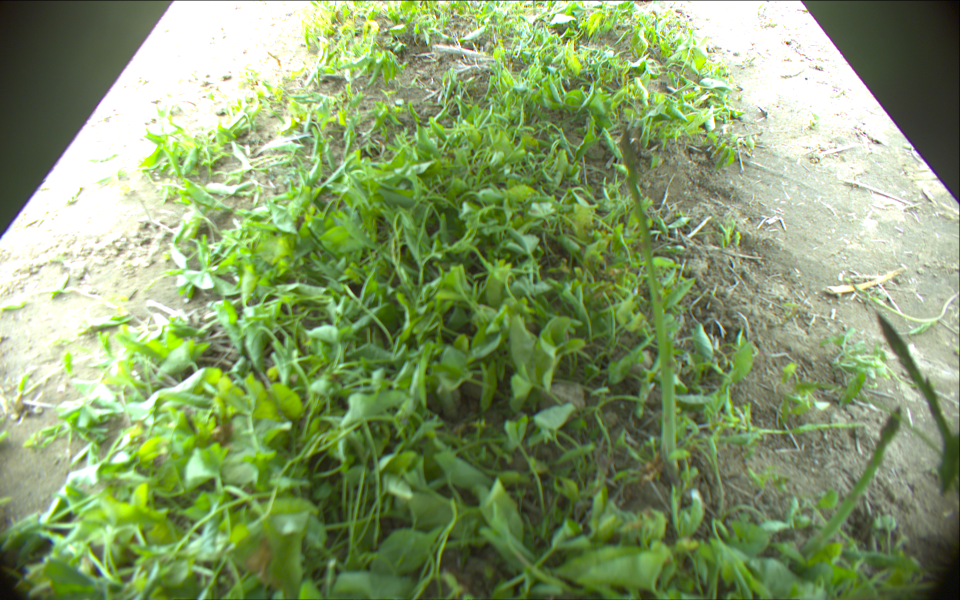aspa: (616, 130, 679, 480), (782, 406, 902, 559), (875, 314, 960, 486)
